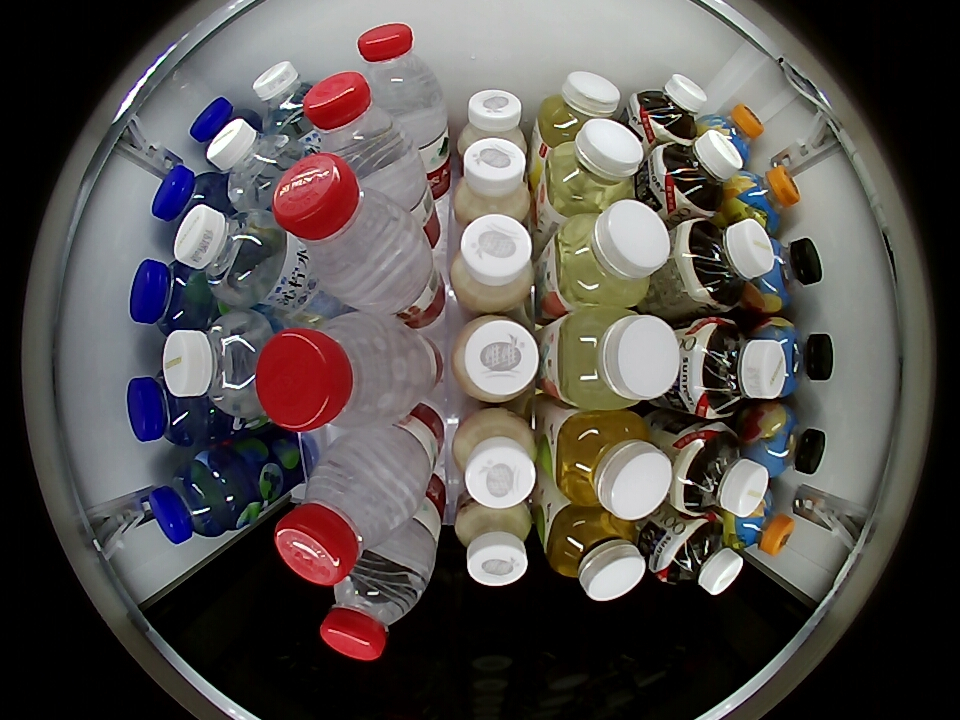chapai2: (552, 410, 672, 520), (551, 200, 670, 309), (552, 309, 679, 410), (542, 117, 643, 214), (545, 506, 646, 602), (537, 71, 623, 146)
guolicheng: (725, 488, 795, 557), (728, 165, 799, 232), (702, 103, 764, 167)
guolicheng2: (762, 316, 834, 397), (748, 403, 826, 477), (750, 236, 822, 313)
maidong: (147, 453, 243, 544), (128, 372, 214, 447), (130, 259, 211, 333), (152, 165, 228, 231), (189, 97, 254, 158)
nongfushanquan: (272, 154, 420, 302), (275, 437, 421, 586), (256, 315, 412, 432), (321, 549, 427, 661), (303, 73, 412, 177), (356, 23, 440, 115)
qinningshui: (161, 310, 275, 422), (173, 205, 288, 306), (208, 119, 302, 210), (253, 61, 319, 137)
weiweidounai: (452, 409, 538, 510), (450, 213, 535, 313), (452, 314, 541, 404), (455, 499, 535, 587), (453, 138, 531, 226), (456, 89, 526, 156)
wulongcha: (684, 316, 791, 419), (677, 216, 776, 313), (671, 424, 769, 519), (656, 130, 744, 216), (655, 516, 744, 596), (634, 74, 708, 145)
